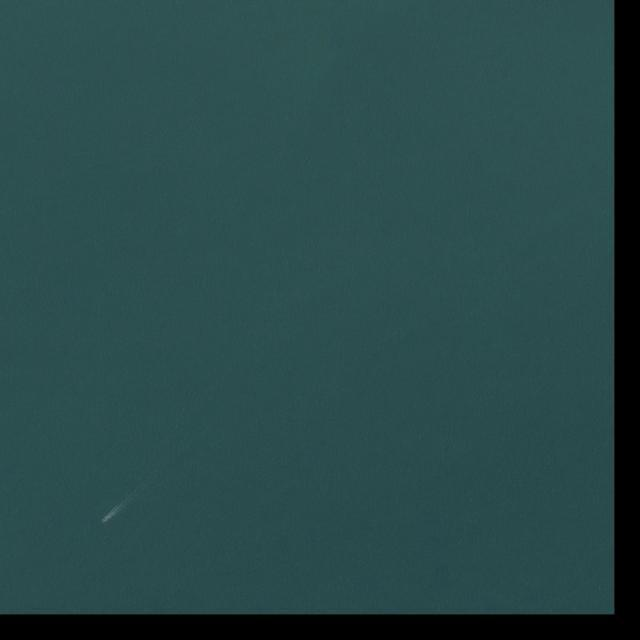ship: (100, 514, 113, 523)
